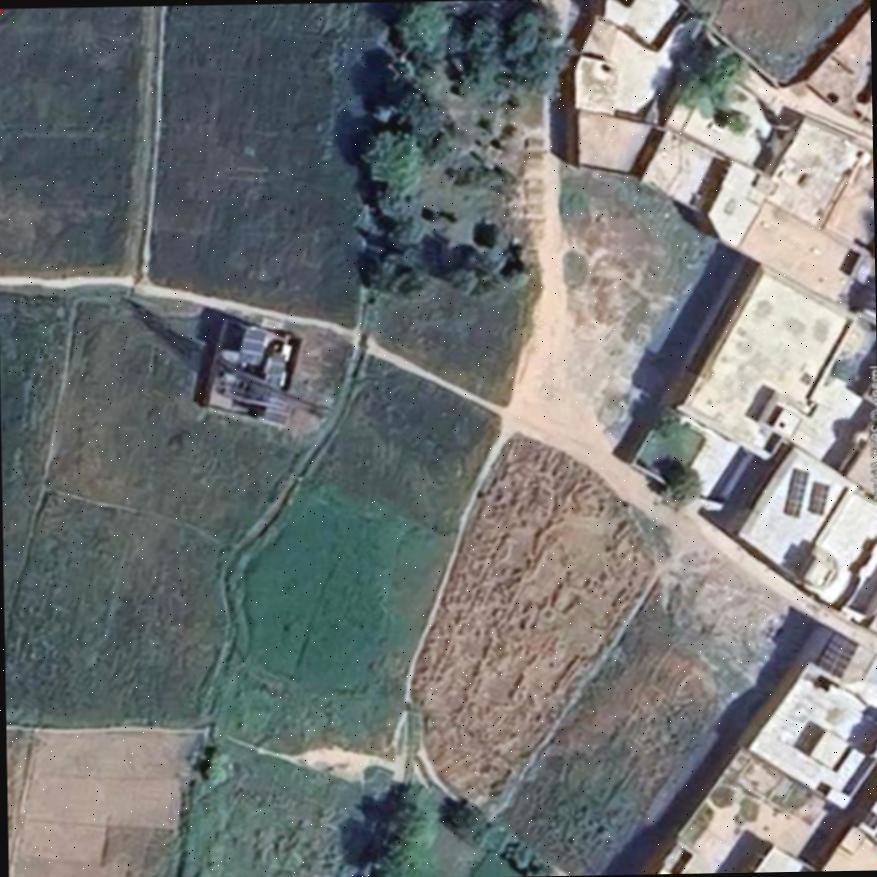Solarpanel: (814, 627, 858, 680), (783, 469, 809, 515), (809, 482, 825, 512)
